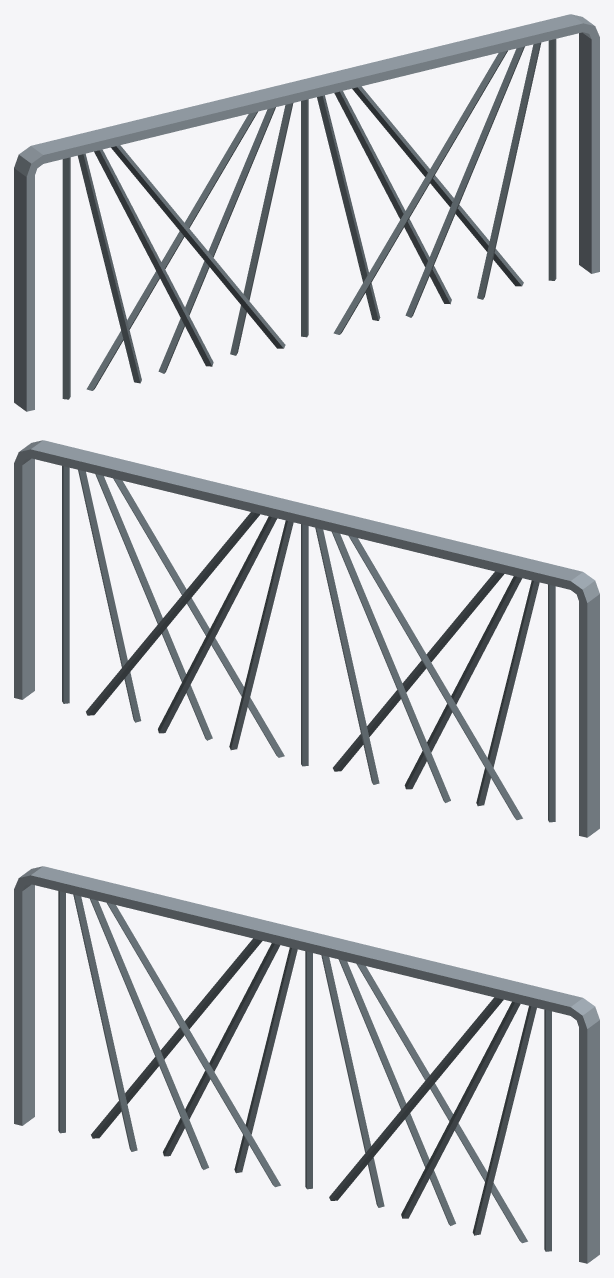
The model's file is SM_Prop_Railing_02.obj.
The picture shows the model from 3 angles, top to bottom: view 1: azimuth 30°, elevation 25°; view 2: azimuth 150°, elevation 25°; view 3: azimuth 330°, elevation 25°; orthographic projection.
Parts seen in each view (by area): view 1: SM_Prop_Railing_02_0; view 2: SM_Prop_Railing_02_0; view 3: SM_Prop_Railing_02_0.
Boxes of the visible parts, box(x1,y1,x2,y2) form: SM_Prop_Railing_02_0: box(14, 14, 599, 411); SM_Prop_Railing_02_0: box(14, 440, 599, 837); SM_Prop_Railing_02_0: box(14, 866, 599, 1263).
Size of the model in its own units: 2.41 by 1.02 by 0.0918.
Materials: 1 (1 with a texture image).
